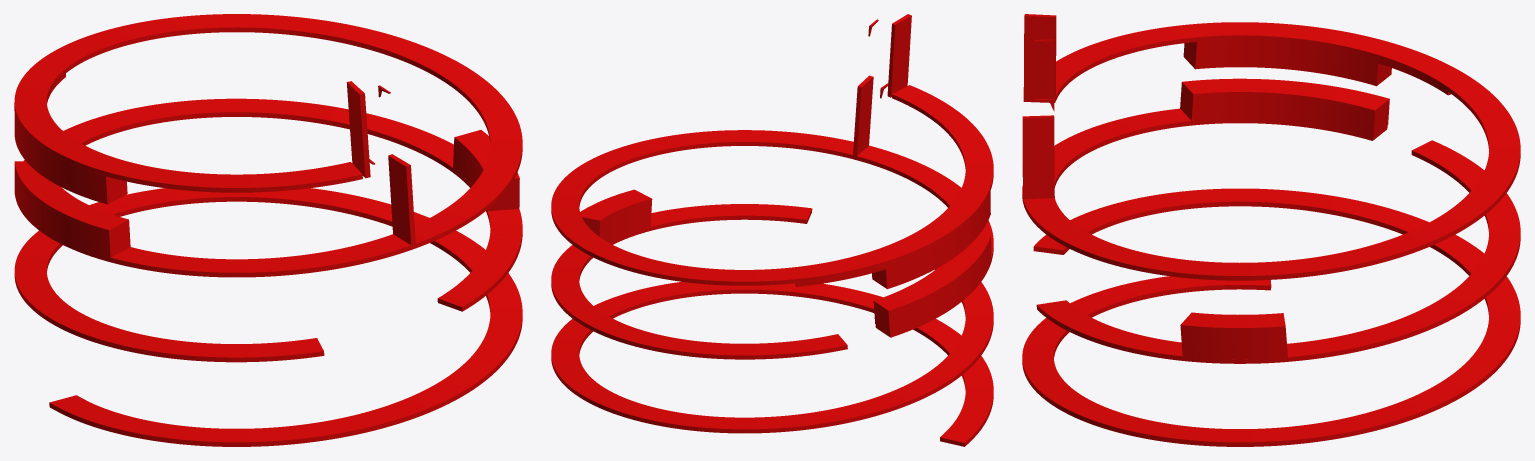
The model's file is Level1Collision.fbx.
3 views of the same model, side by side, from view 1: azimuth 30°, elevation 25°; view 2: azimuth 150°, elevation 25°; view 3: azimuth 270°, elevation 25° (orthographic). The views are drawn at different scales.
Parts seen in each view (by area): view 1: MiddleFloorCollision168; view 2: MiddleFloorCollision168; view 3: MiddleFloorCollision168.
Part boxes in pixels (x1,y1,x2,y2): MiddleFloorCollision168: (14,14,522,446); MiddleFloorCollision168: (551,14,993,446); MiddleFloorCollision168: (1022,14,1520,446).
Bounding box in the file's own units: 10651 × 8306 × 10650.
